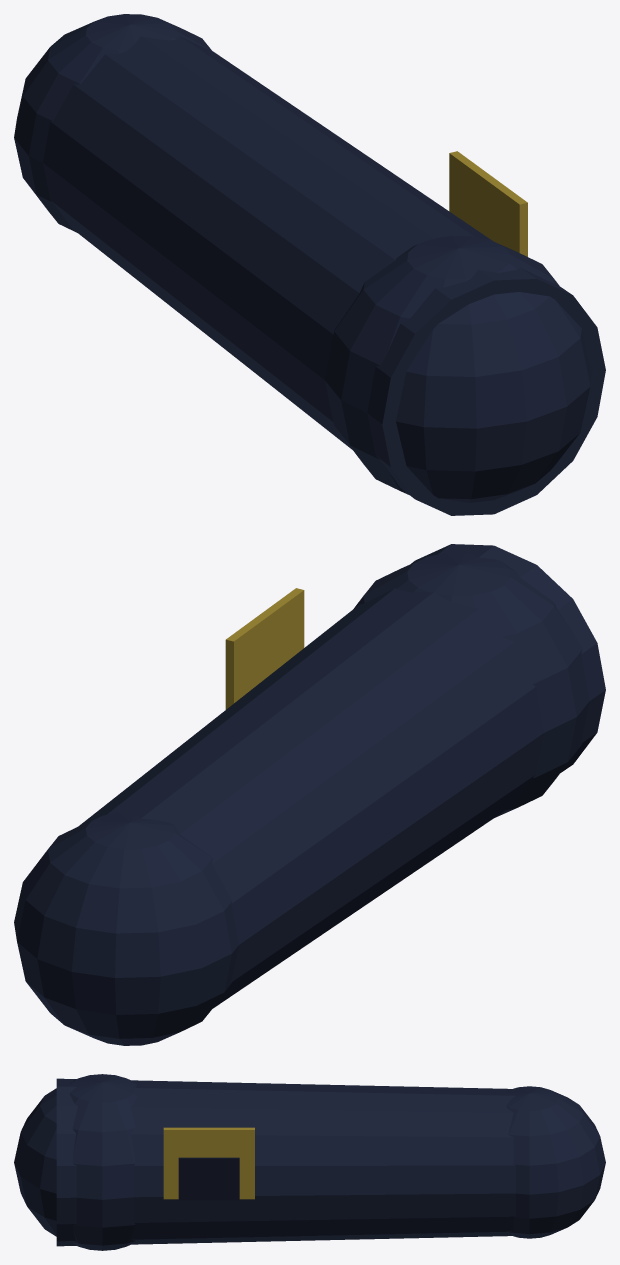
File: upper_arm.glb
3 renders of one model, top to bottom at view 1: azimuth 30°, elevation 25°; view 2: azimuth 150°, elevation 25°; view 3: azimuth 270°, elevation 25°, orthographic. The views are drawn at different scales.
Parts seen in each view (by area): view 1: upper_arm; view 2: upper_arm; view 3: upper_arm.
Part boxes in pixels (x1,y1,x2,y2): upper_arm: (14, 14, 605, 515); upper_arm: (14, 544, 605, 1045); upper_arm: (14, 1074, 605, 1250).
Size of the model in its own units: 0.1165 by 0.116 by 0.388.
